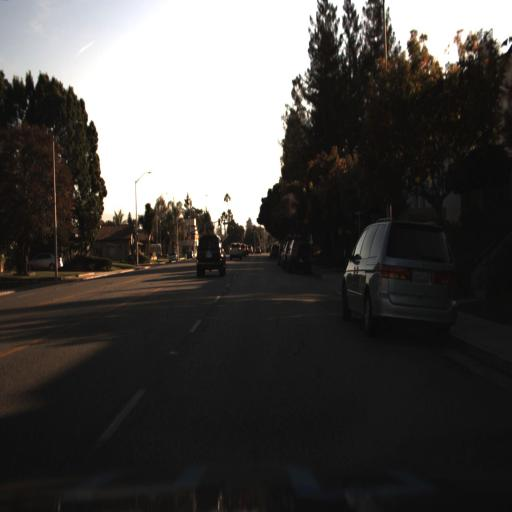car: (342, 213, 461, 338), (194, 227, 228, 276), (286, 236, 315, 273), (28, 247, 64, 275), (227, 237, 244, 261), (163, 248, 179, 266)
